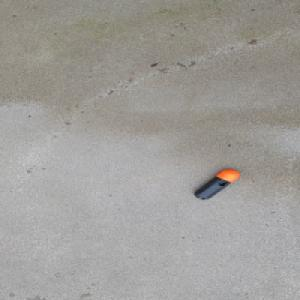PlasticPart: (193, 168, 241, 200)
